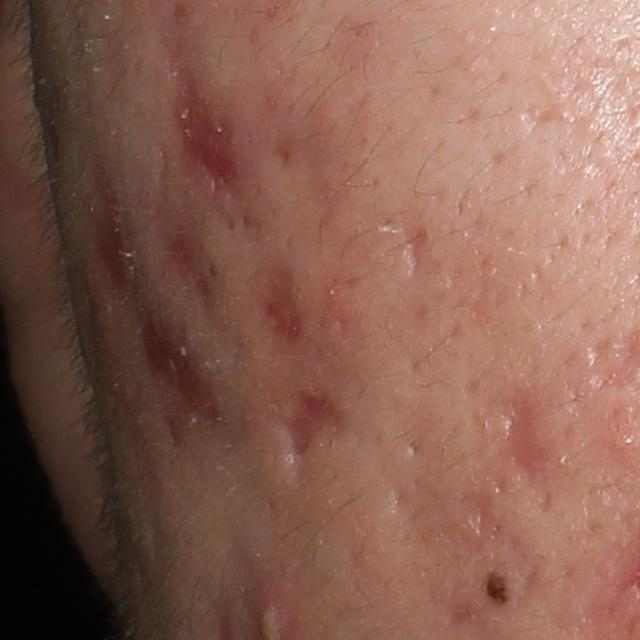atrophic_scar: (170, 50, 241, 199), (134, 310, 211, 417), (277, 384, 345, 480), (492, 400, 549, 493), (151, 204, 205, 295), (257, 257, 312, 342), (462, 491, 498, 539), (519, 103, 563, 130), (406, 226, 426, 279)
nevus: (473, 566, 516, 609)
